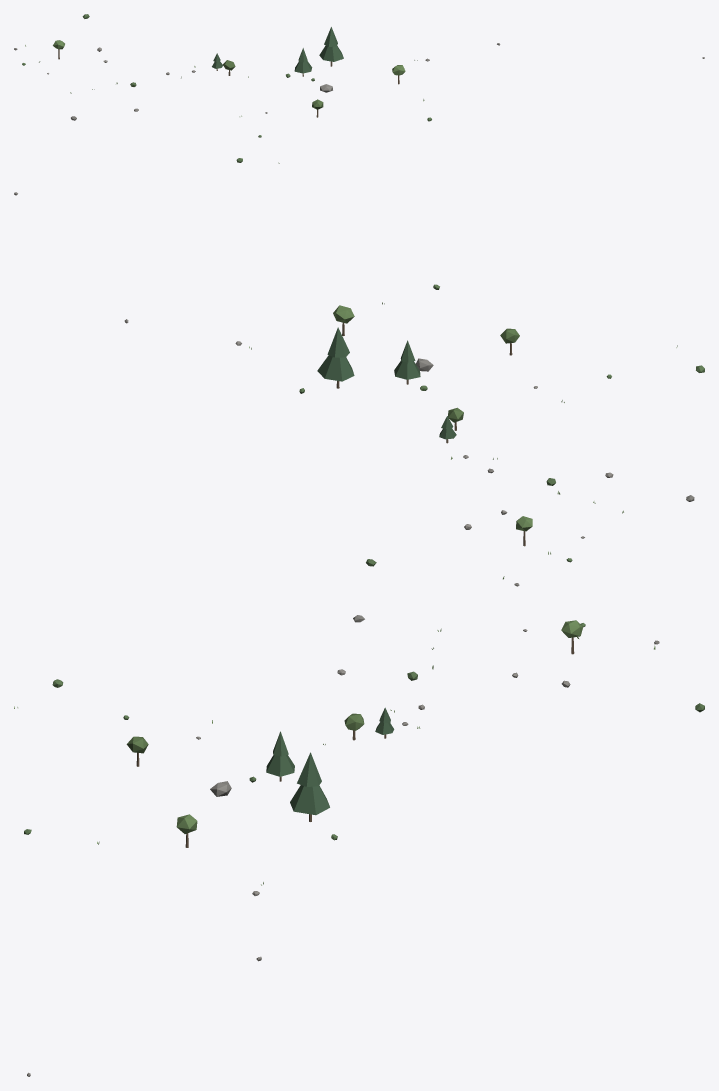
File: arch_land_scatter_c19_21_lod1.glb
3 renders of one model, top to bottom at view 1: azimuth 30°, elevation 25°; view 2: azimuth 150°, elevation 25°; view 3: azimuth 270°, elevation 25°, orthographic. The views are drawn at different scales.
Parts seen in each view (by area): view 1: arch_land_scatter_c19_21_lod1; view 2: arch_land_scatter_c19_21_lod1; view 3: arch_land_scatter_c19_21_lod1.
Boxes of the visible parts, x1,y1,x2,y2 form: arch_land_scatter_c19_21_lod1: (14, 14, 704, 163); arch_land_scatter_c19_21_lod1: (14, 192, 704, 586); arch_land_scatter_c19_21_lod1: (14, 615, 704, 1076).
Size of the model in its own units: 206 by 16.89 by 132.
